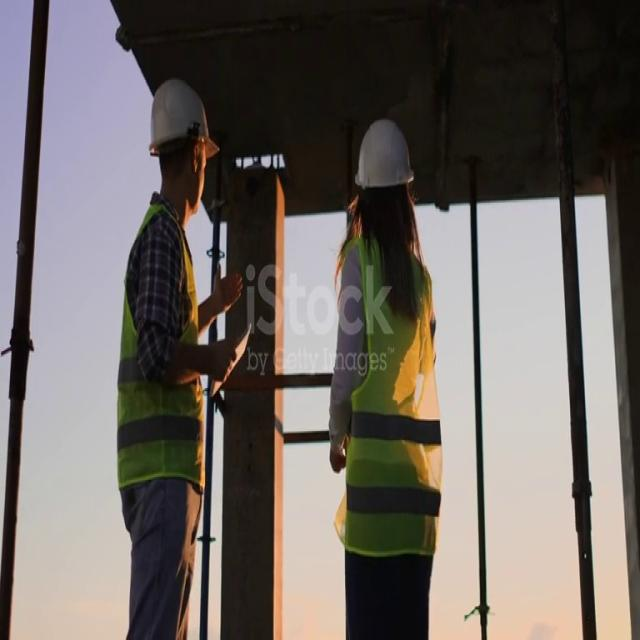capacete: (334, 102, 427, 213), (142, 70, 222, 172)
